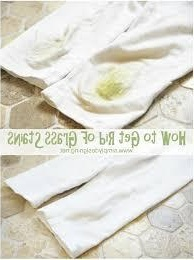earth: (99, 73, 127, 98)
